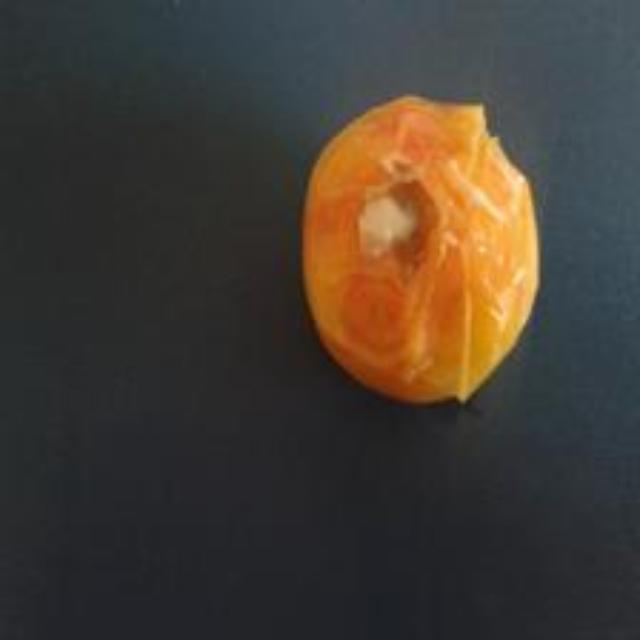defect: (294, 94, 543, 417)
